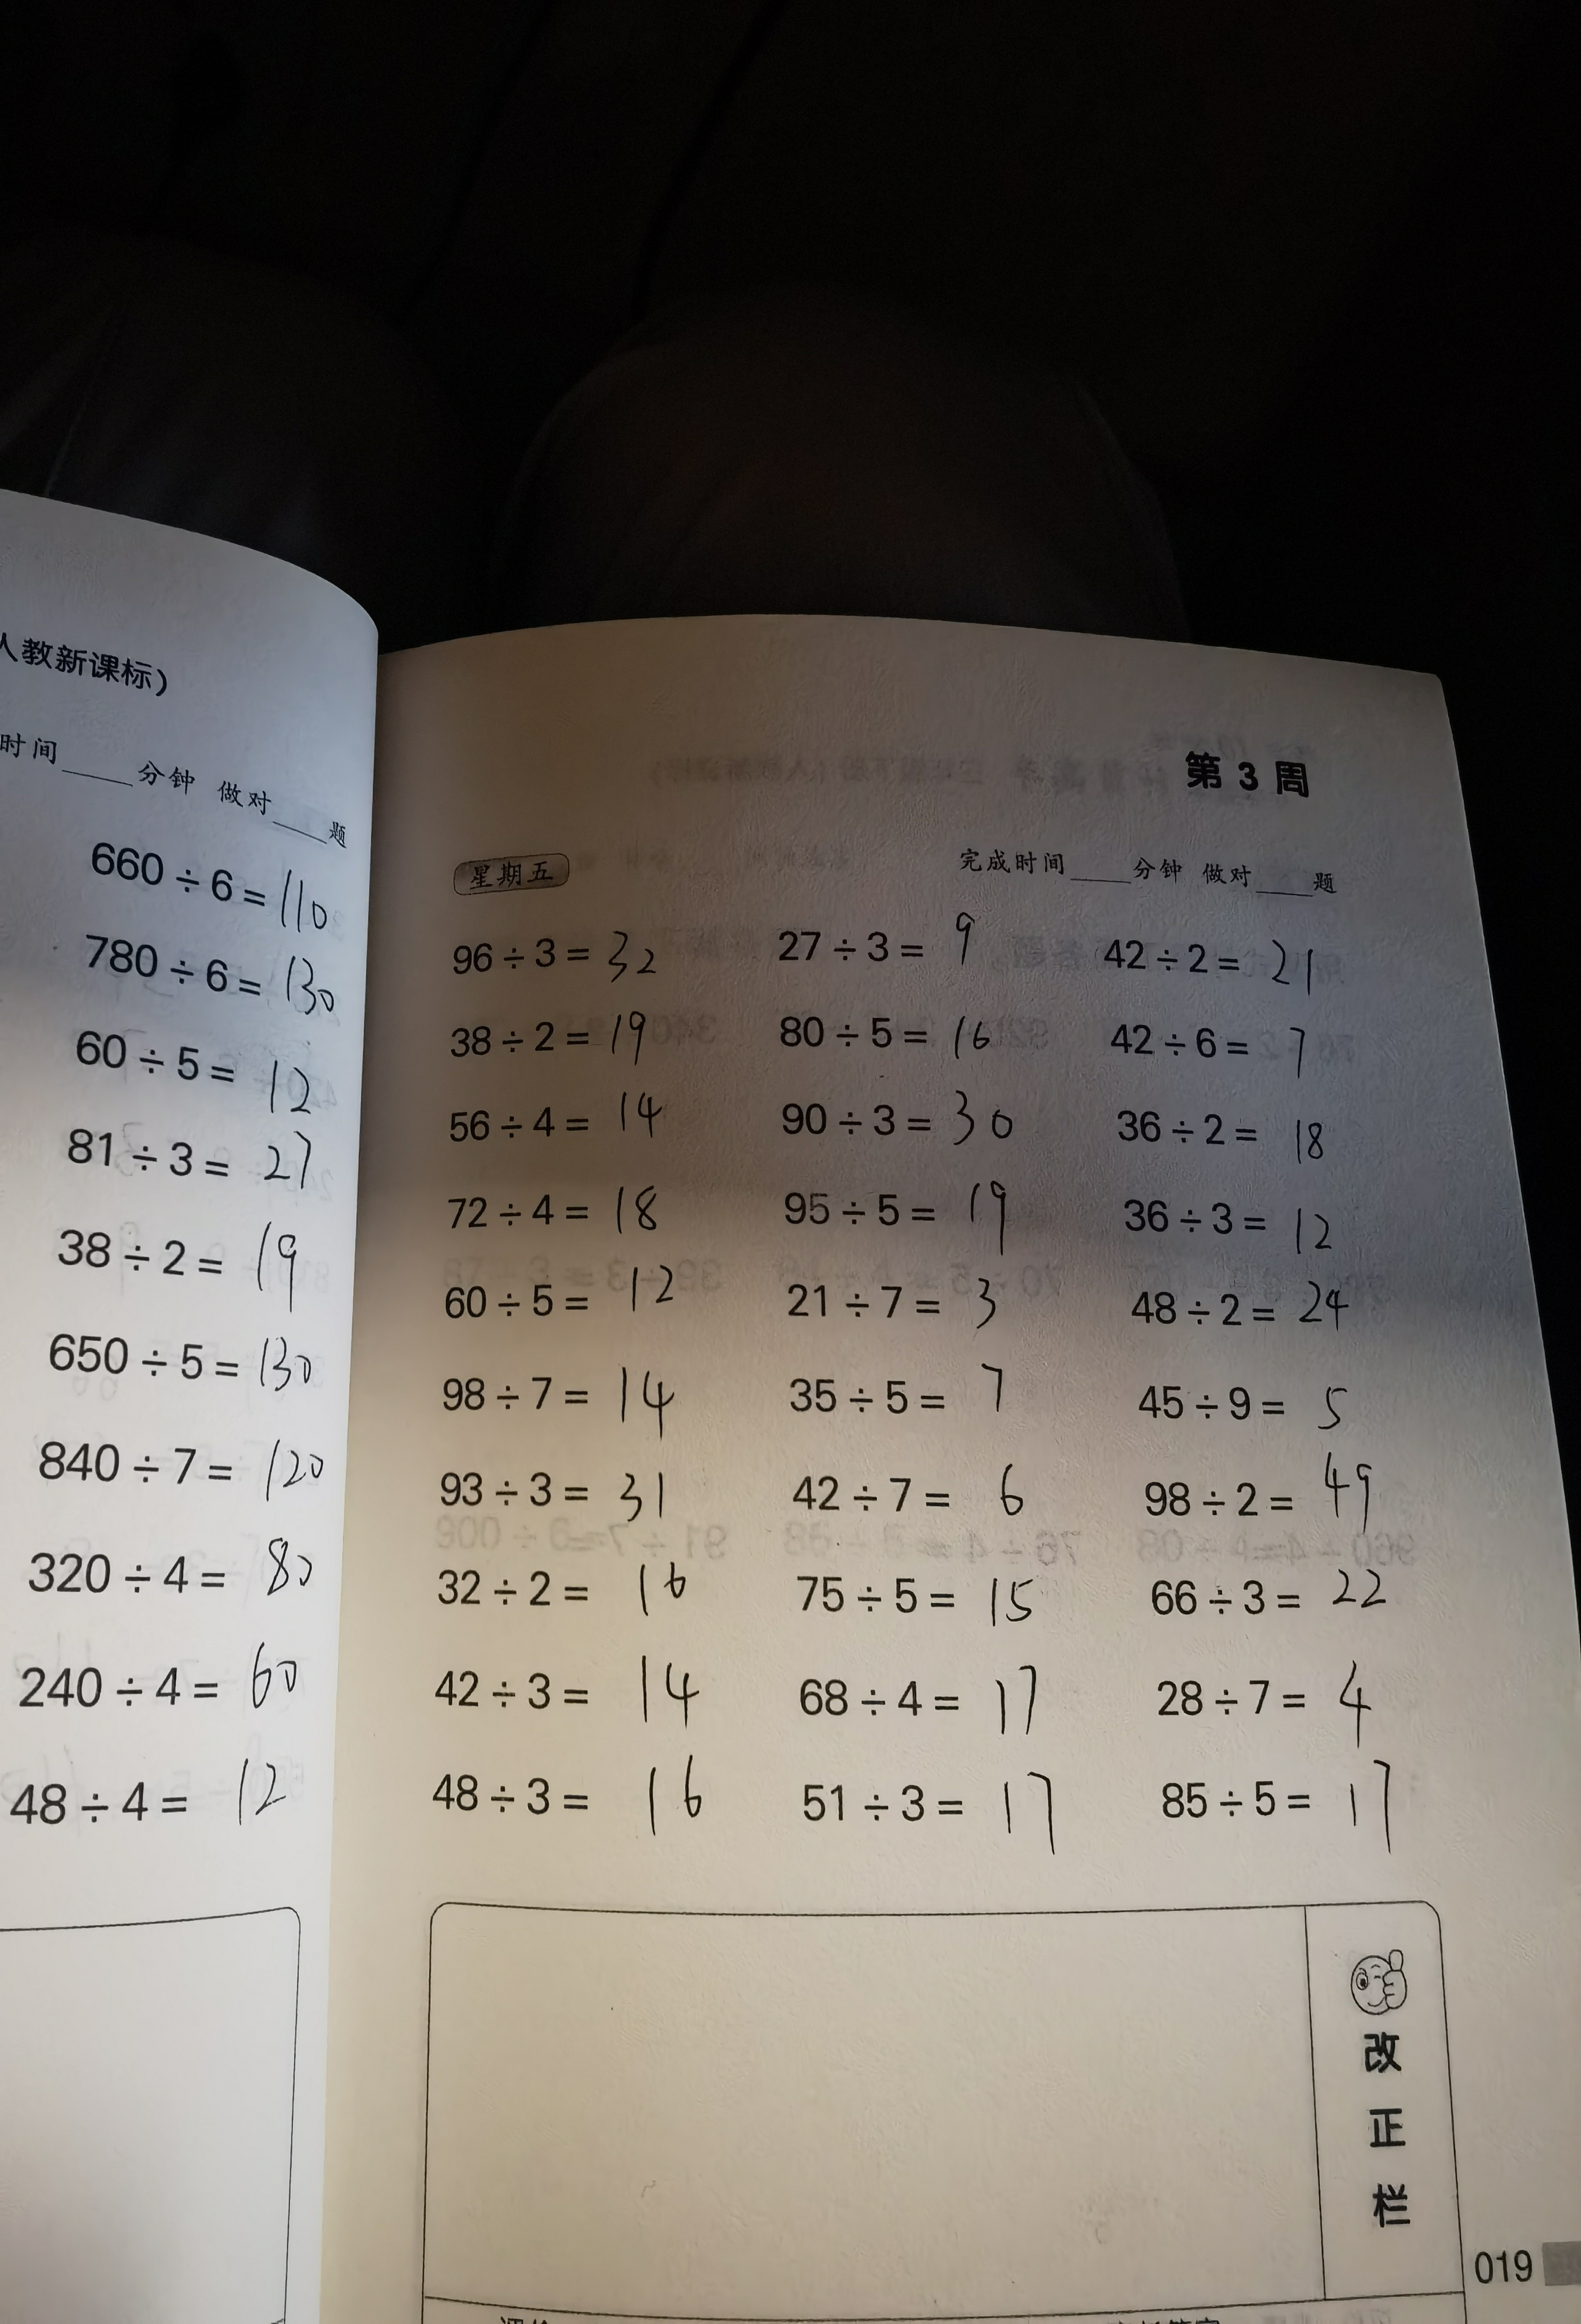equation: (1117, 1758, 1417, 1863), (409, 1655, 743, 1749), (1131, 1451, 1406, 1551), (785, 1659, 1087, 1749), (1090, 1346, 1367, 1440), (783, 1763, 1076, 1851), (768, 1361, 1059, 1449), (415, 1756, 745, 1833), (1122, 1553, 1412, 1638), (787, 1546, 1048, 1636), (752, 1269, 1036, 1350), (1147, 1659, 1382, 1756), (411, 1449, 688, 1530), (761, 1073, 1038, 1152), (432, 1549, 711, 1620), (1099, 923, 1341, 1004), (782, 1184, 1036, 1258), (1113, 1184, 1353, 1262), (790, 1456, 1041, 1530), (766, 900, 993, 981), (418, 1359, 681, 1428), (423, 1182, 706, 1244), (432, 914, 678, 985), (1101, 1092, 1364, 1158), (761, 1001, 1004, 1066), (1101, 1016, 1346, 1076), (445, 1004, 667, 1068), (441, 1267, 708, 1320), (446, 1092, 671, 1151), (1122, 1286, 1376, 1331)
